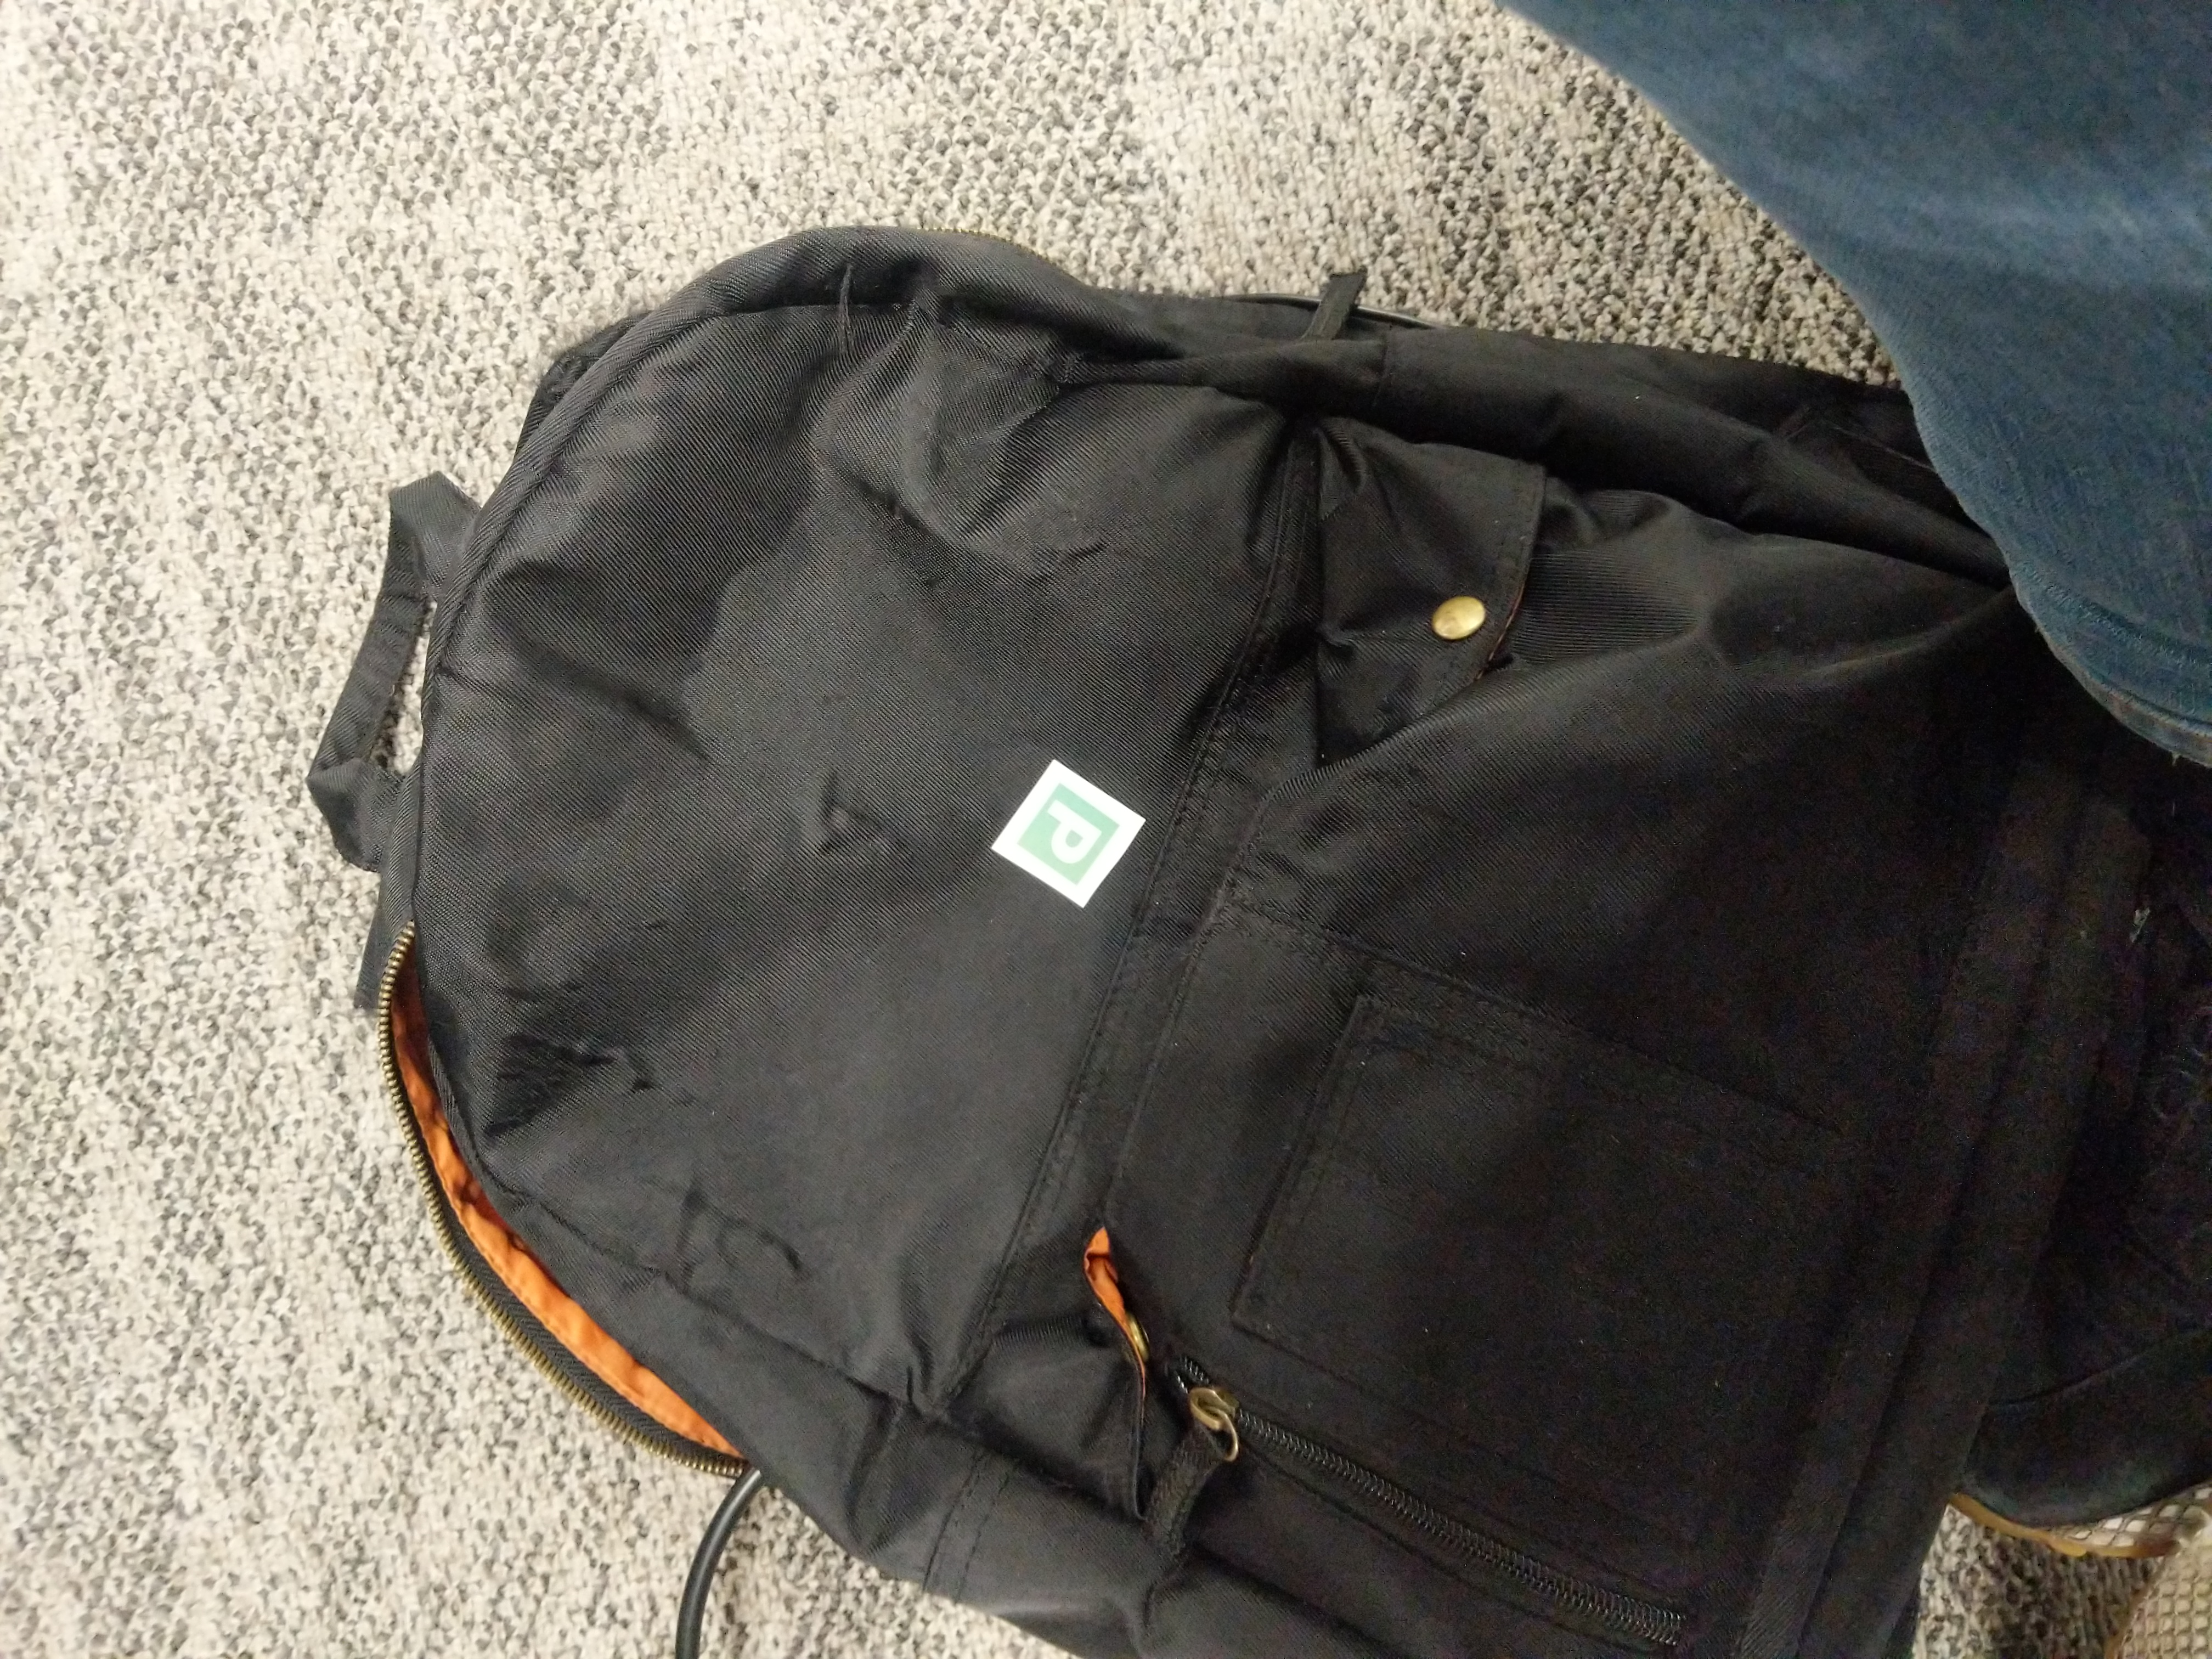green marker: (988, 756, 1153, 915)
